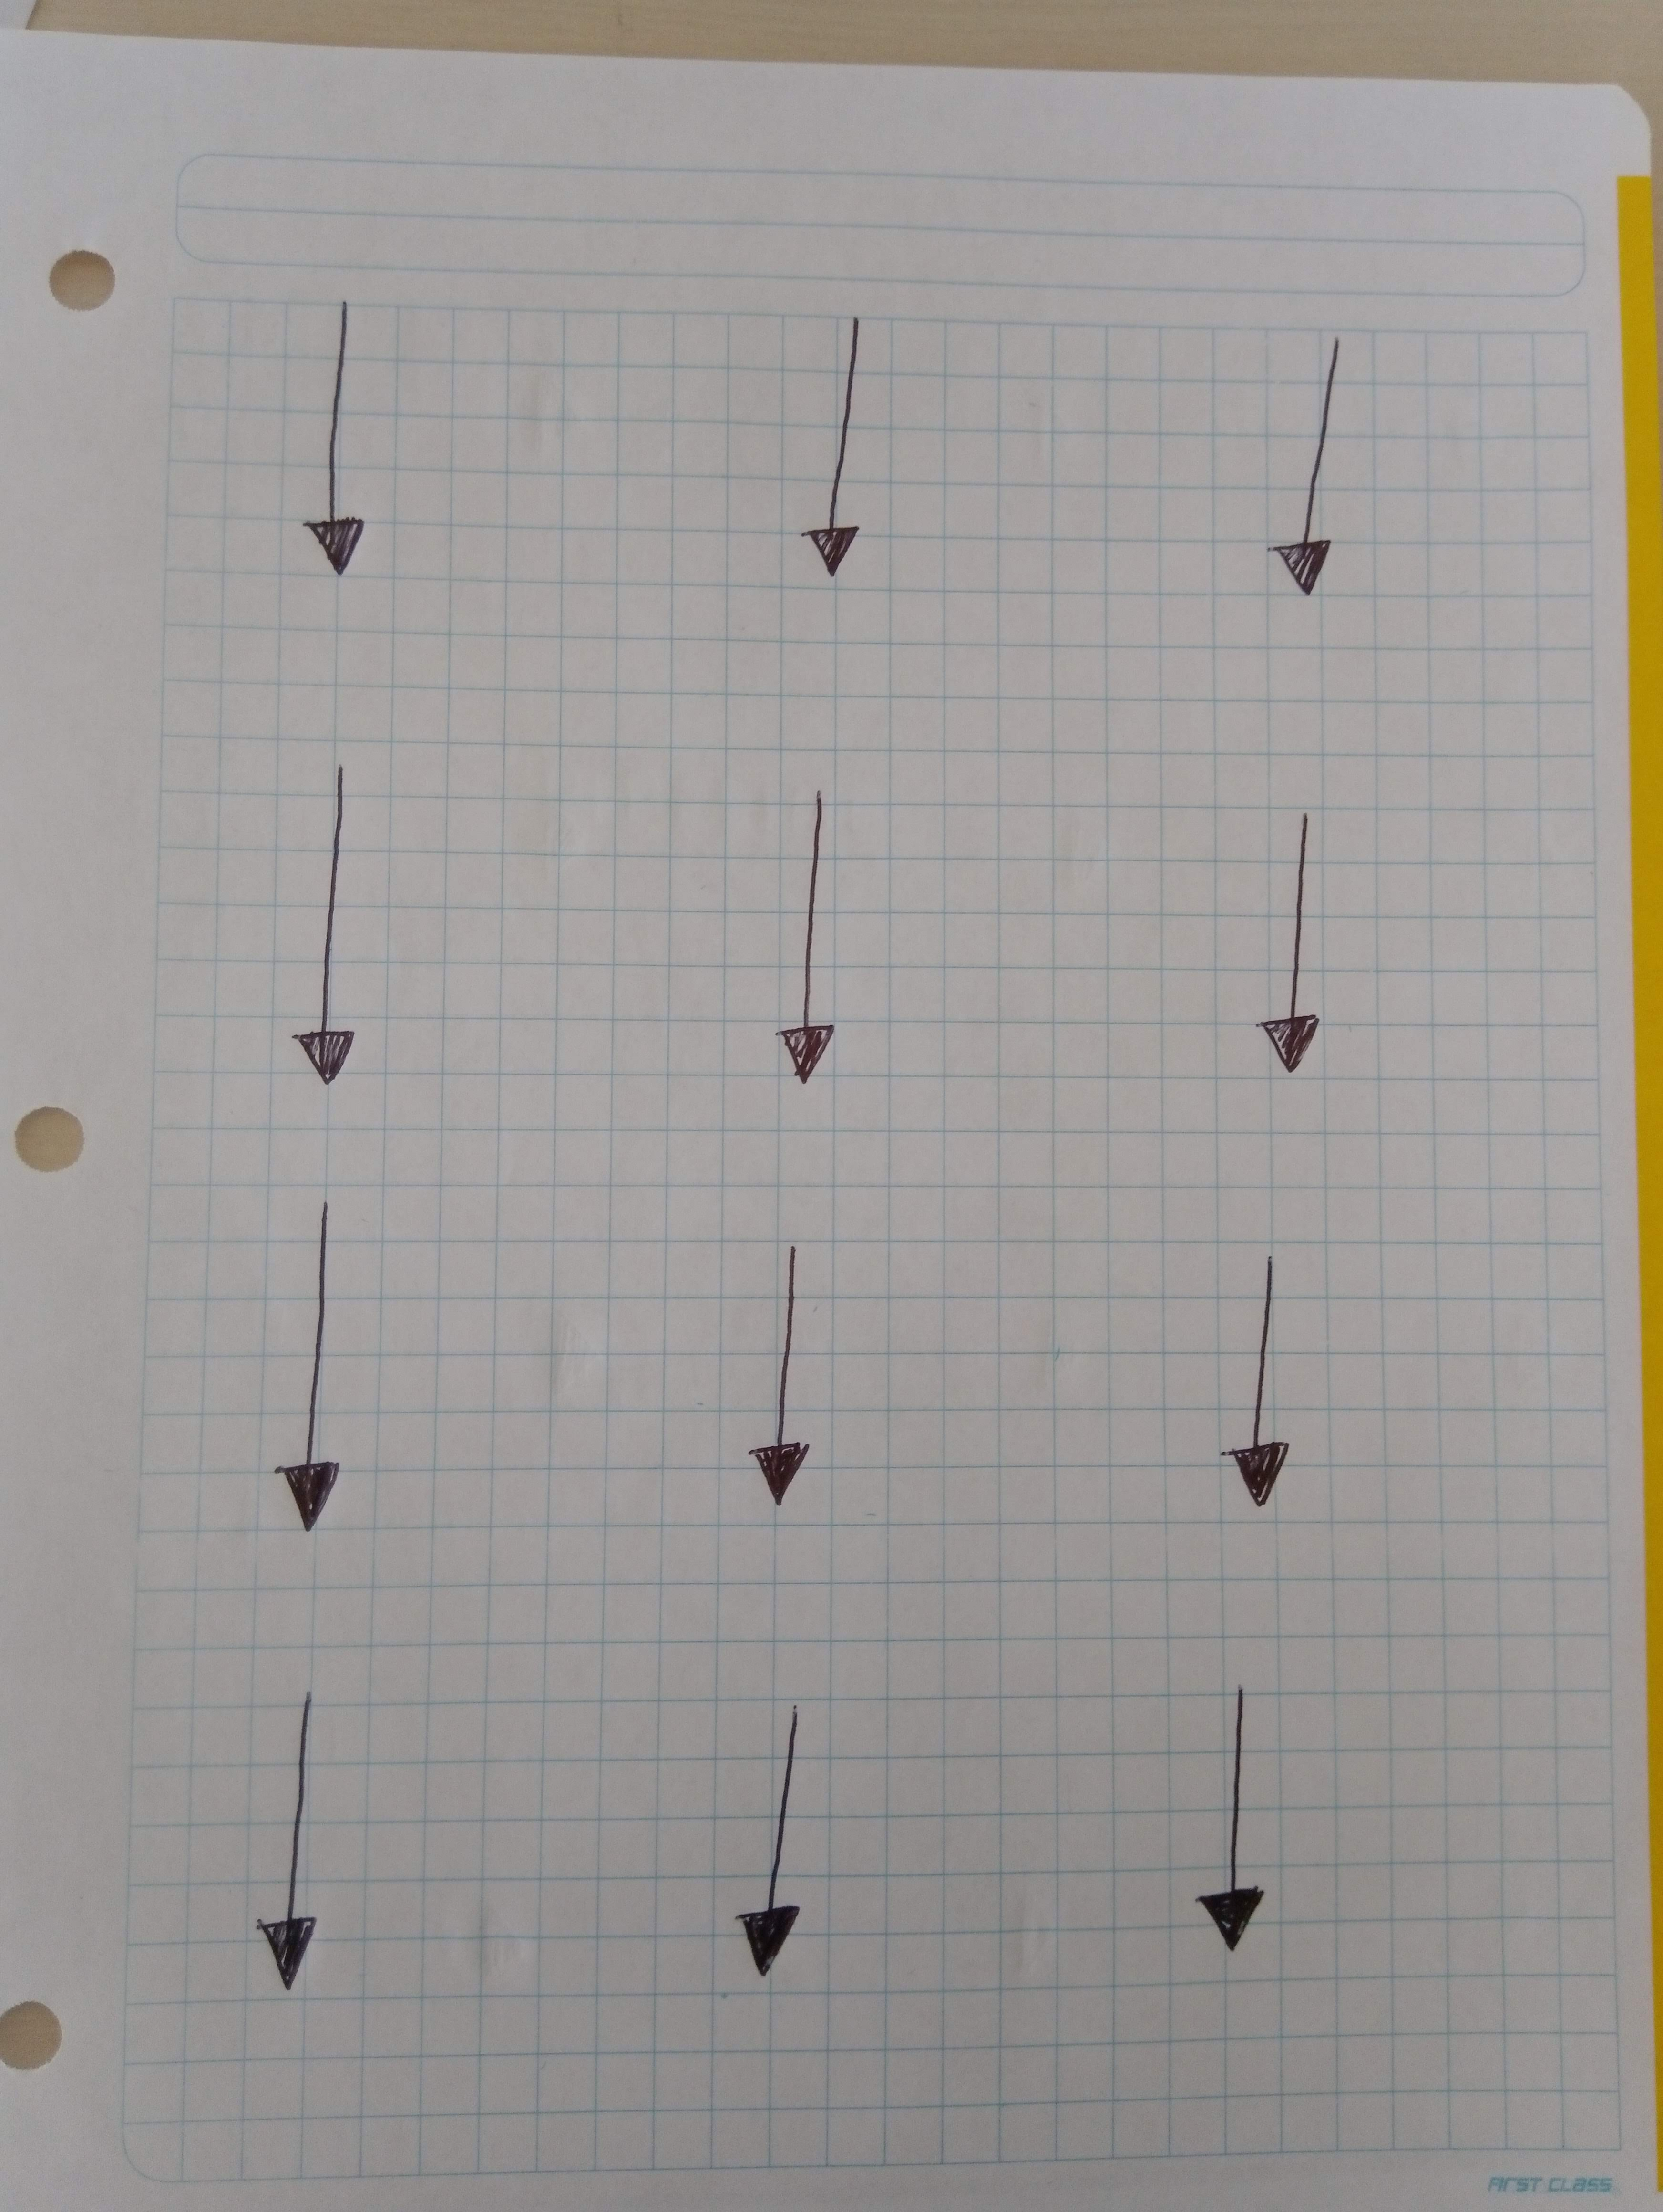arrow_line_down: (279, 742, 390, 1095), (232, 1674, 346, 2008), (1251, 325, 1373, 608), (1181, 1681, 1303, 1964), (749, 784, 863, 1088), (264, 1201, 353, 1531), (797, 299, 896, 585), (1237, 808, 1335, 1091), (1207, 1248, 1303, 1524), (734, 1685, 811, 1978), (309, 299, 386, 571), (756, 1234, 833, 1505)
